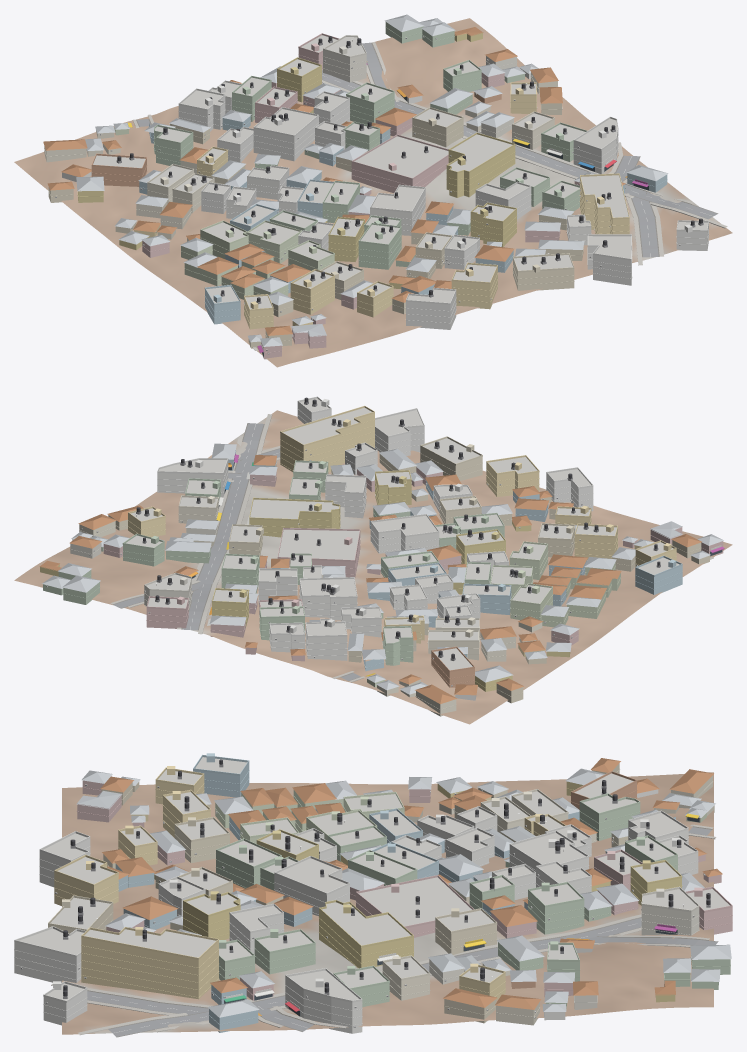
3 renders of one model, top to bottom at view 1: azimuth 30°, elevation 25°; view 2: azimuth 150°, elevation 25°; view 3: azimuth 270°, elevation 25°, orthographic. The views are drawn at different scales.
Visible parts, largest first — view 1: Buildings-col, Terrain-col, Details, Roads-col, Sidewalks-col; view 2: Buildings-col, Terrain-col, Details, Roads-col, Sidewalks-col; view 3: Buildings-col, Details, Terrain-col, Roads-col, Sidewalks-col.
Boxes of the visible parts, x1,y1,x2,y2 form: Buildings-col: [43, 14, 708, 359]; Terrain-col: [14, 18, 732, 367]; Details: [44, 27, 708, 356]; Roads-col: [136, 42, 718, 257]; Sidewalks-col: [132, 42, 727, 350]; Buildings-col: [39, 398, 723, 716]; Terrain-col: [14, 410, 732, 724]; Details: [46, 396, 724, 709]; Roads-col: [113, 423, 360, 681]; Sidewalks-col: [110, 414, 713, 682]; Buildings-col: [14, 757, 732, 1033]; Details: [14, 753, 732, 1027]; Terrain-col: [62, 772, 713, 1034]; Roads-col: [87, 826, 718, 1037]; Sidewalks-col: [51, 824, 716, 1035].
Bounding box in the file's own units: 266 × 37 × 282.
